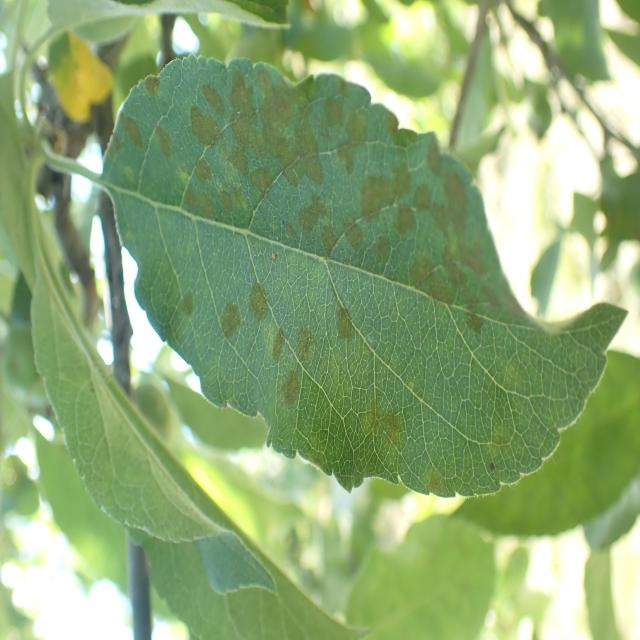scab: (116, 14, 587, 452)
